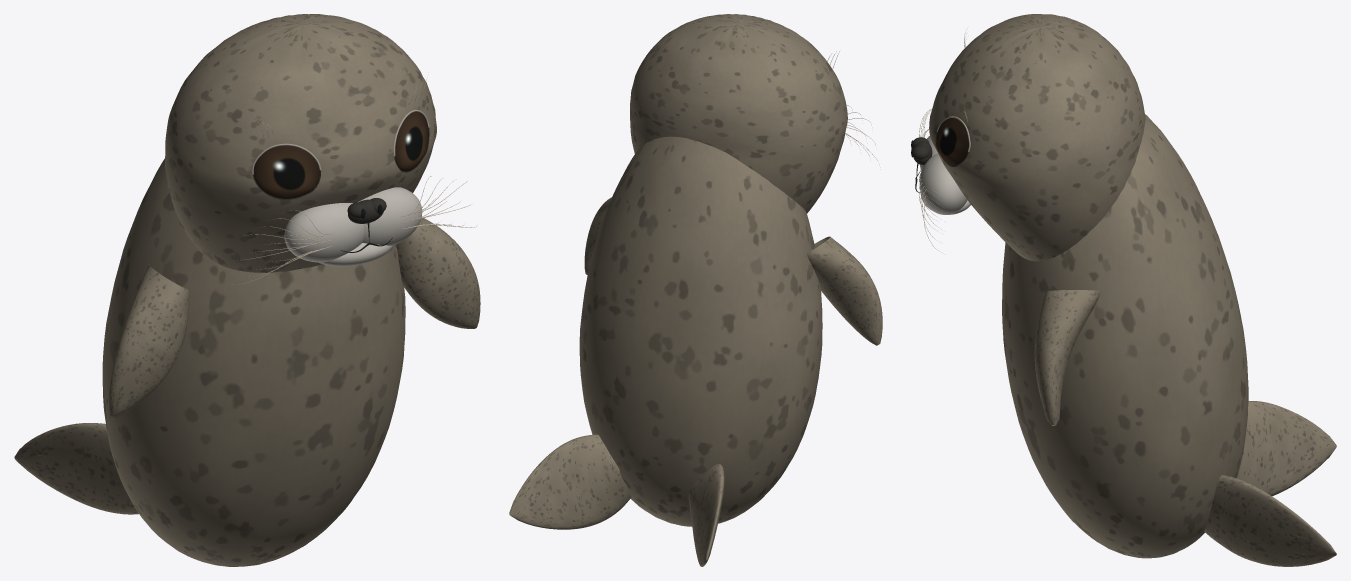
The model's file is seal-harbor-pup.glb.
3 renders of one model, left to right at view 1: azimuth 30°, elevation 25°; view 2: azimuth 150°, elevation 25°; view 3: azimuth 270°, elevation 25°, orthographic. The views are drawn at different scales.
Parts seen in each view (by area): view 1: Body sculpted torpedo torso, Sculpted face and sensory whiskers, Webbed flipper (×3), Wet almond eye (×2), Soft chin; view 2: Body sculpted torpedo torso, Sculpted face and sensory whiskers, Webbed flipper (×4); view 3: Body sculpted torpedo torso, Sculpted face and sensory whiskers, Webbed flipper (×3), Wet almond eye.
Boxes of the visible parts, x1,y1,x2,y2 form: Body sculpted torpedo torso: (102,158,405,566); Sculpted face and sensory whiskers: (165,14,476,284); Webbed flipper (×3): (14,217,480,514); Wet almond eye (×2): (253,111,428,198); Soft chin: (318,243,393,266); Body sculpted torpedo torso: (579,136,822,526); Sculpted face and sensory whiskers: (630,14,880,213); Webbed flipper (×4): (509,197,882,566); Body sculpted torpedo torso: (1002,114,1248,558); Sculpted face and sensory whiskers: (911,14,1145,261); Webbed flipper (×3): (1034,290,1336,566); Wet almond eye: (936,118,968,166).
Size of the model in its own units: 1.88 by 2.79 by 2.07.
Materials: 7 (2 with a texture image).
